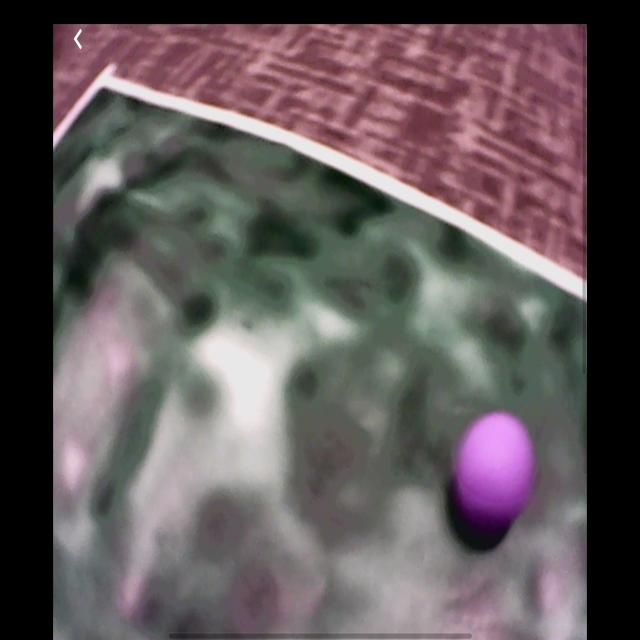ball: (448, 409, 537, 548)
